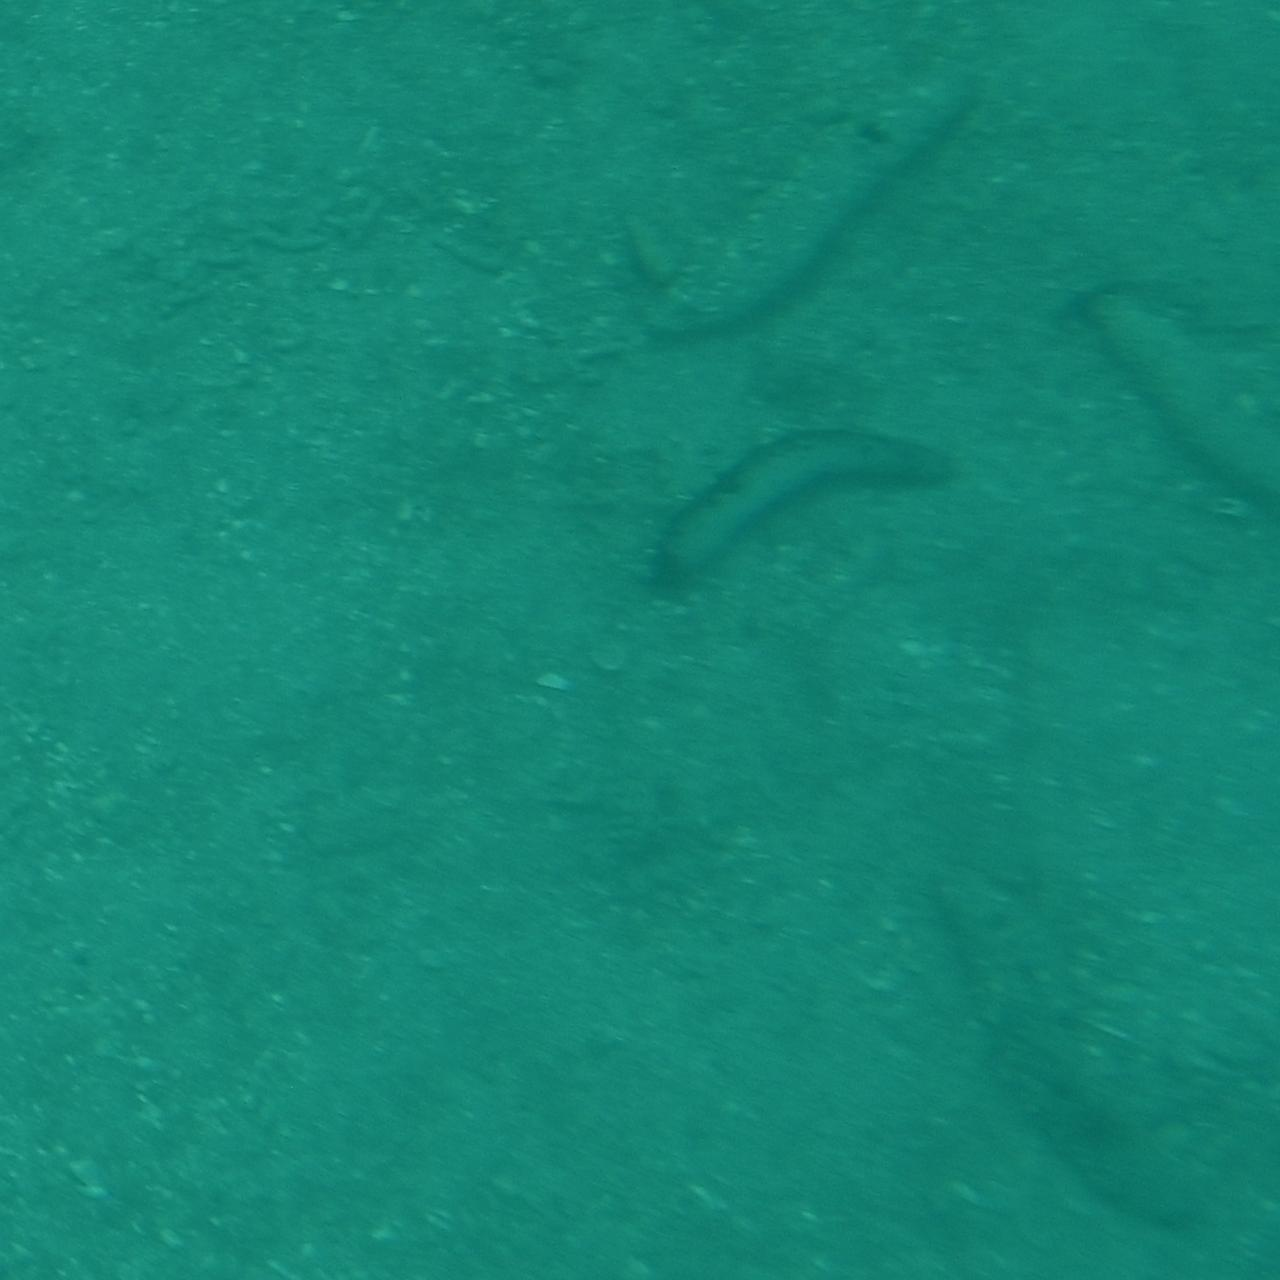Holothuria tubulosa: (947, 891, 1235, 1246), (654, 81, 998, 345), (654, 418, 1008, 591), (1101, 267, 1280, 505)
